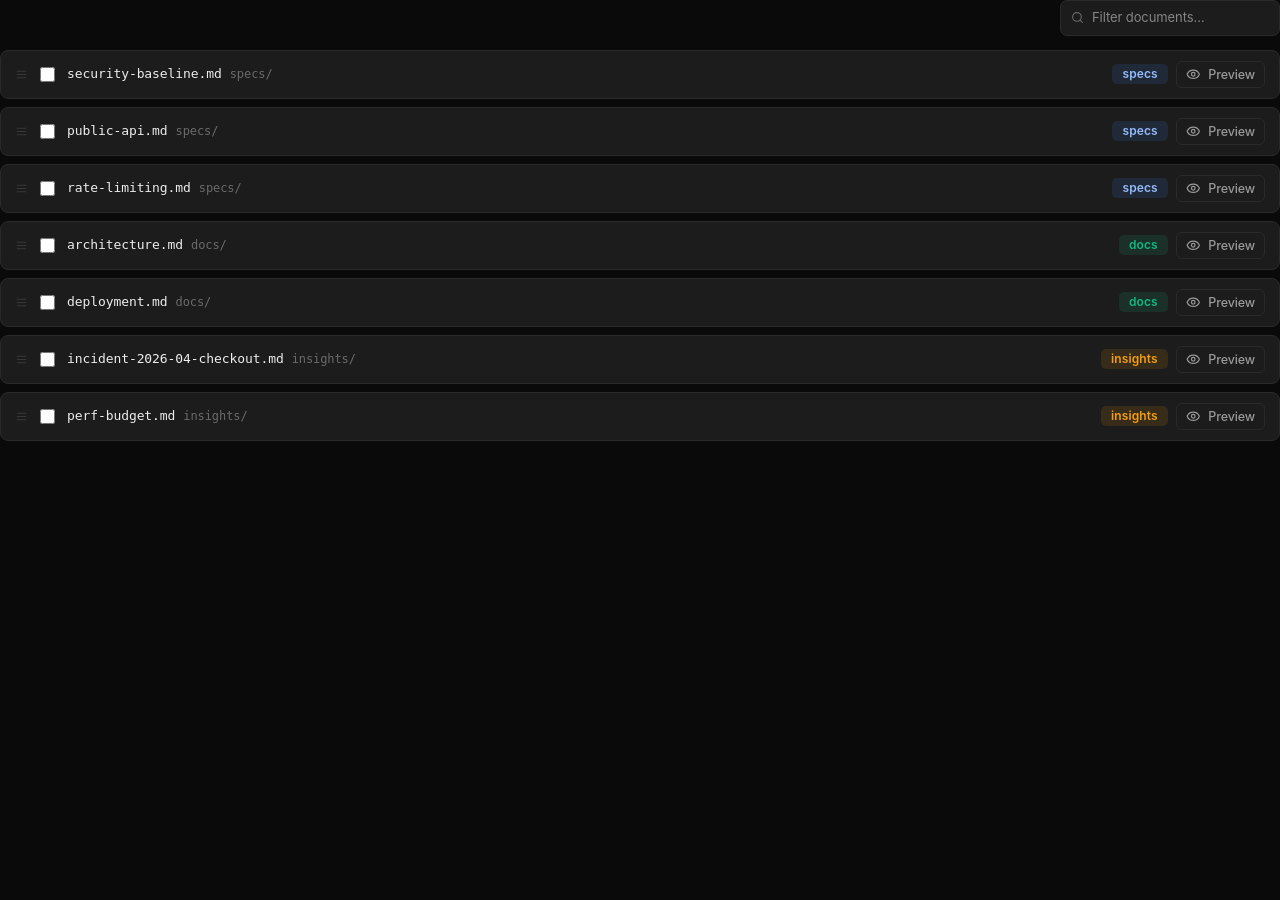
AttachmentEditor — the preview dialog › opens the rendered document with its token estimate and closes without touching the rows or the filter (AC-41, NFR-7)
Type "docs/" into the search field labelled "Filter documents…" at (1180, 18), box [1092, 8, 1269, 28]
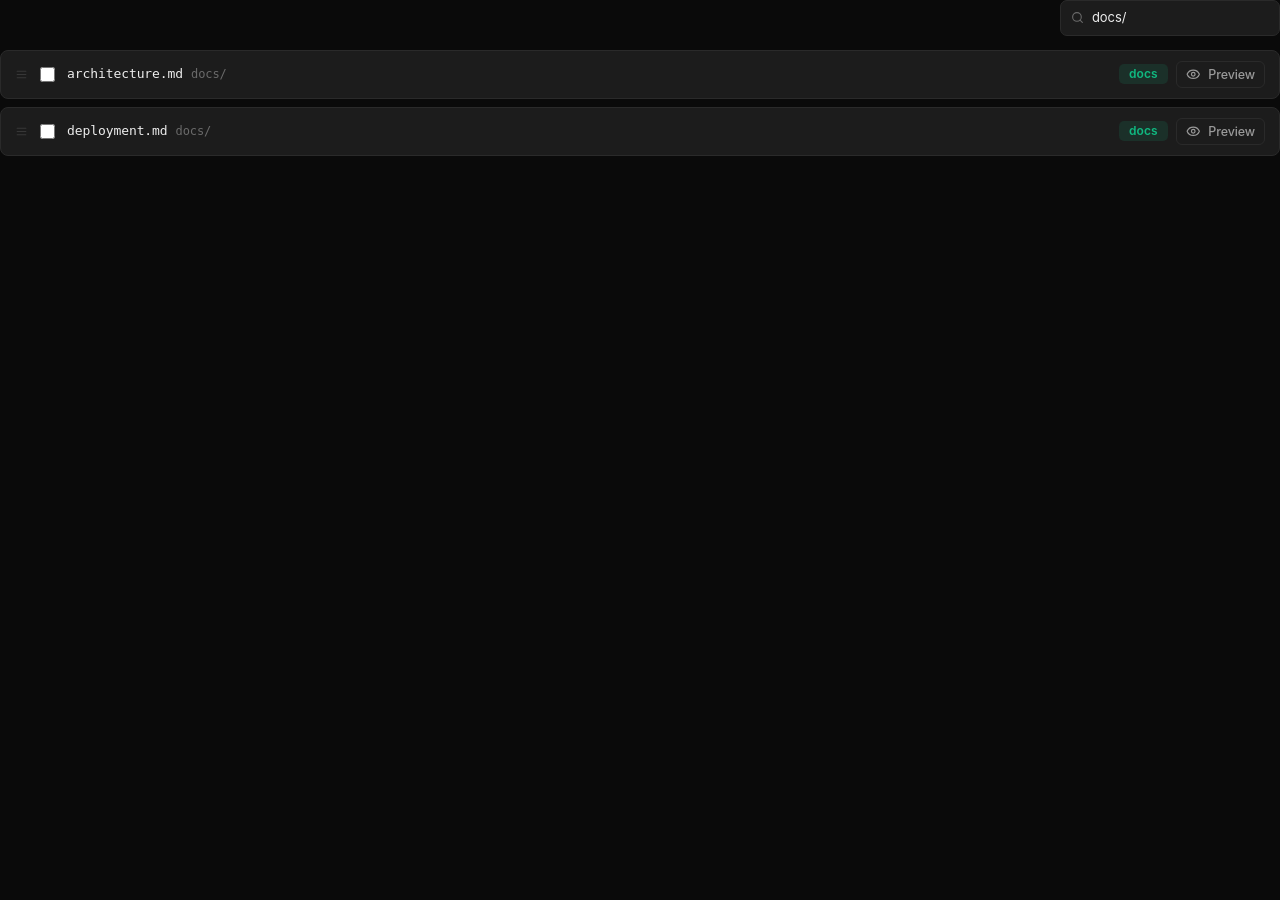
Click the button "Preview" in the row of "architecture.md" at (1220, 74), box [1176, 60, 1265, 88]
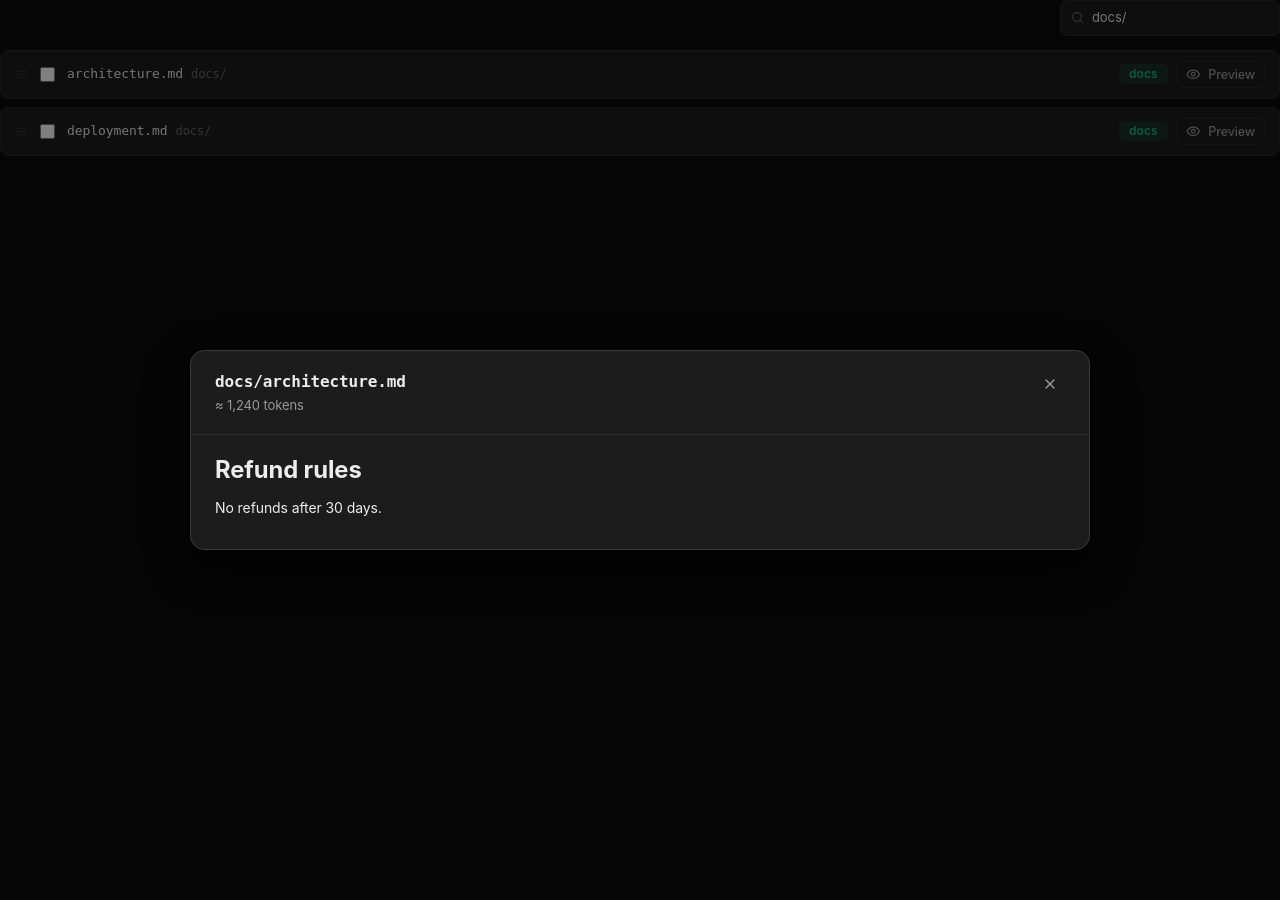
Now the heading "Refund rules" is shown, box [215, 454, 362, 484]
Now the text "No refunds after 30 days." is shown, box [215, 499, 382, 516]
Now the text "≈ 1,240 tokens" is shown, box [215, 397, 304, 413]
Click the button named "Close" at (1050, 384), box [1035, 369, 1065, 399]
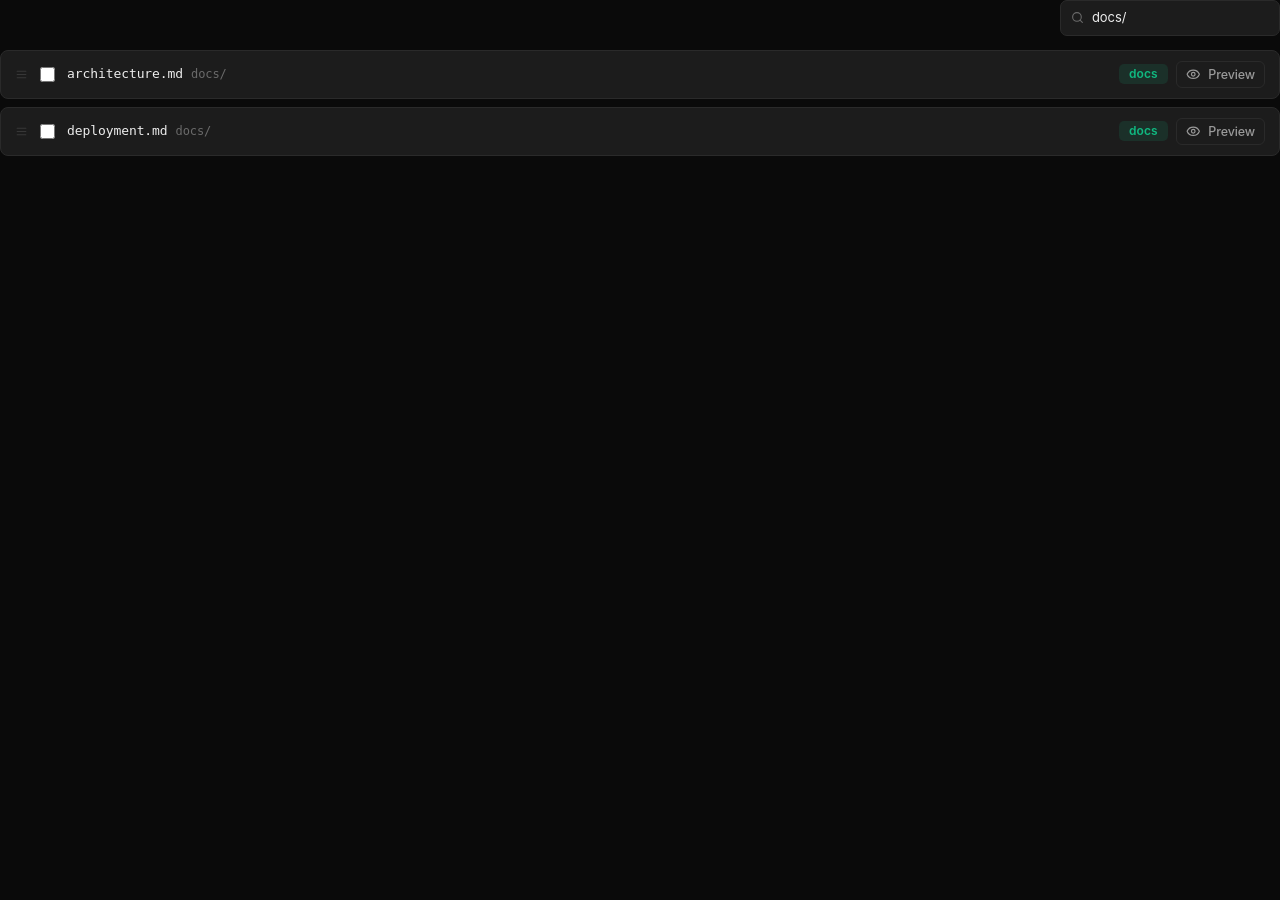
Now the dialog is gone
